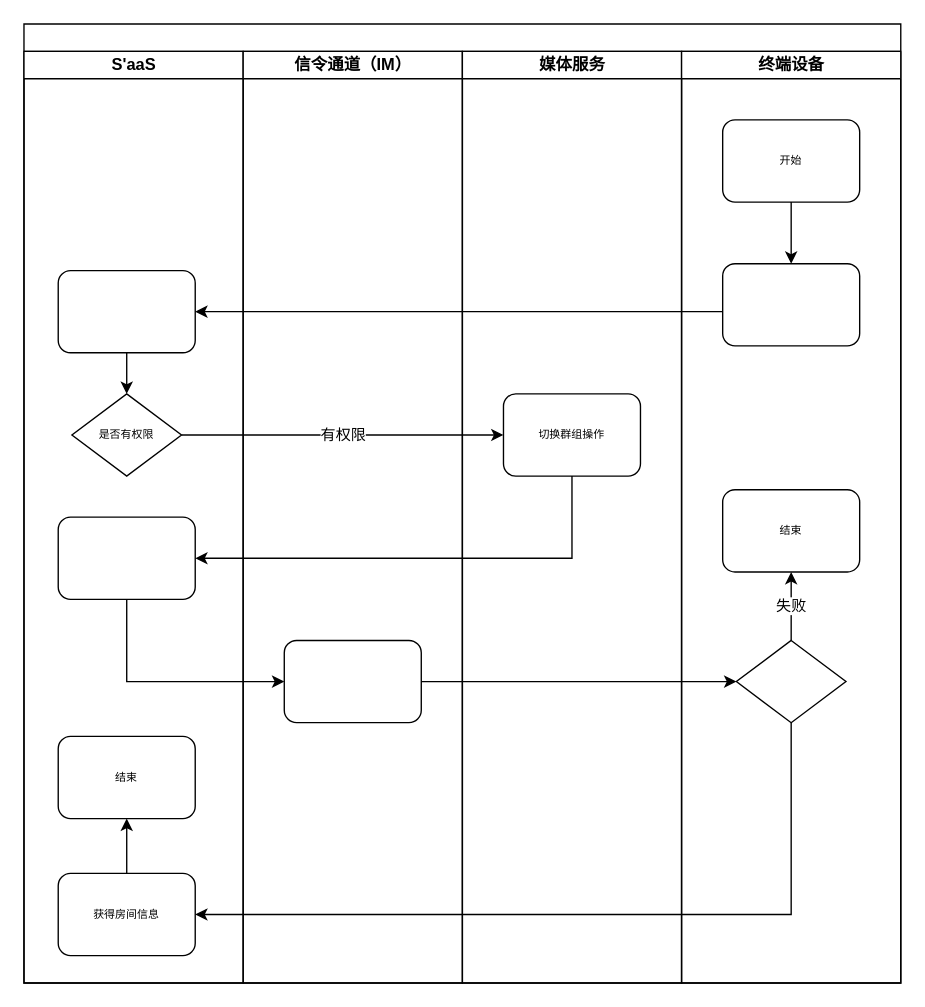
This 925x1007 diagram has some shape labels left out. The centre of each missing label's shape, as x and y in pixels:
"发送信令通知终端 已加入或切换房间成功/失败" belongs at (x=352, y=681).
"是否成功" belongs at (x=790, y=681).
"流媒体服务返回信息" belongs at (x=126, y=557).
"设备切换群组" belongs at (x=790, y=304).
"验证是否有加入次群组权限" belongs at (x=126, y=311).
